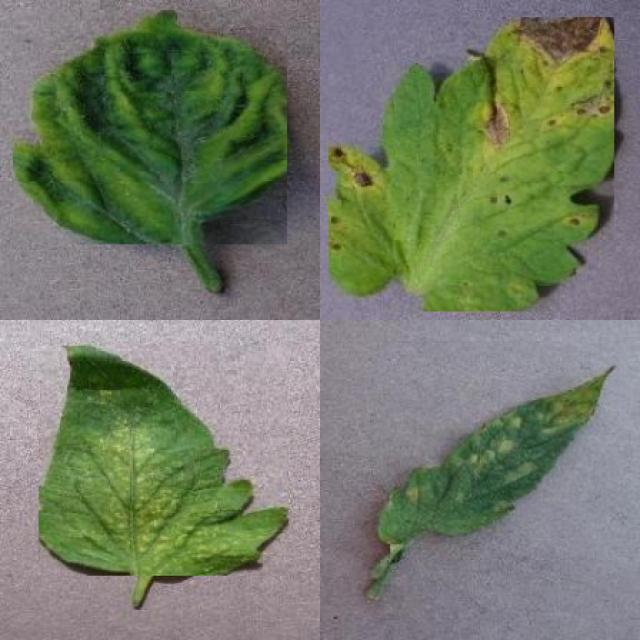Leaf Mold: (378, 373, 606, 544)
Septoria: (329, 18, 614, 312)
Spider Mites: (39, 346, 288, 576)
Yellow Leaf Curl Virus: (13, 7, 288, 244)
